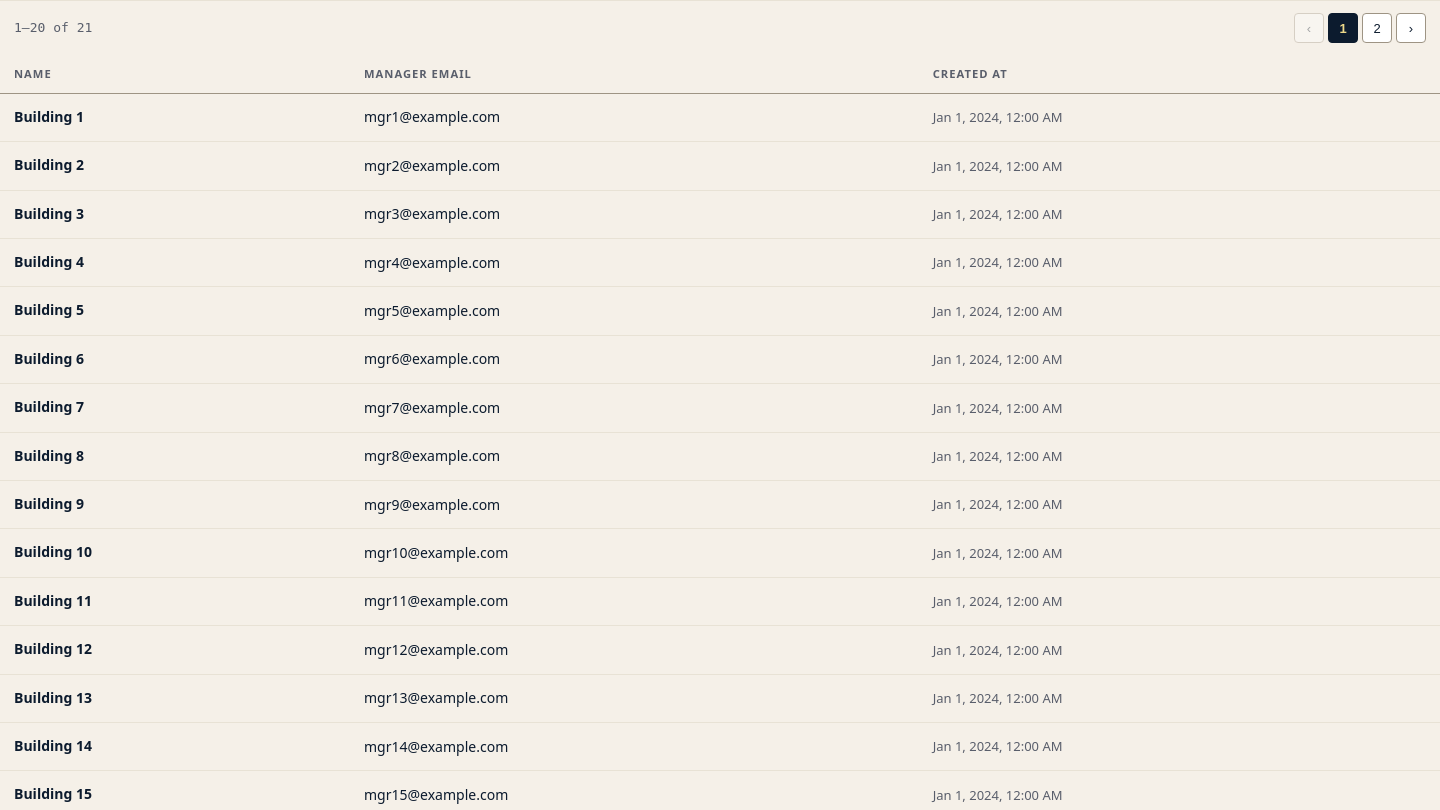
BuildingTable › renders the 21st building when navigating to page 2
What coordinates should you click on to do the following:
click the button named "Go to page 2"
I would click on:
 (1377, 28)
Its box is x1=1362 y1=13 x2=1392 y2=43.
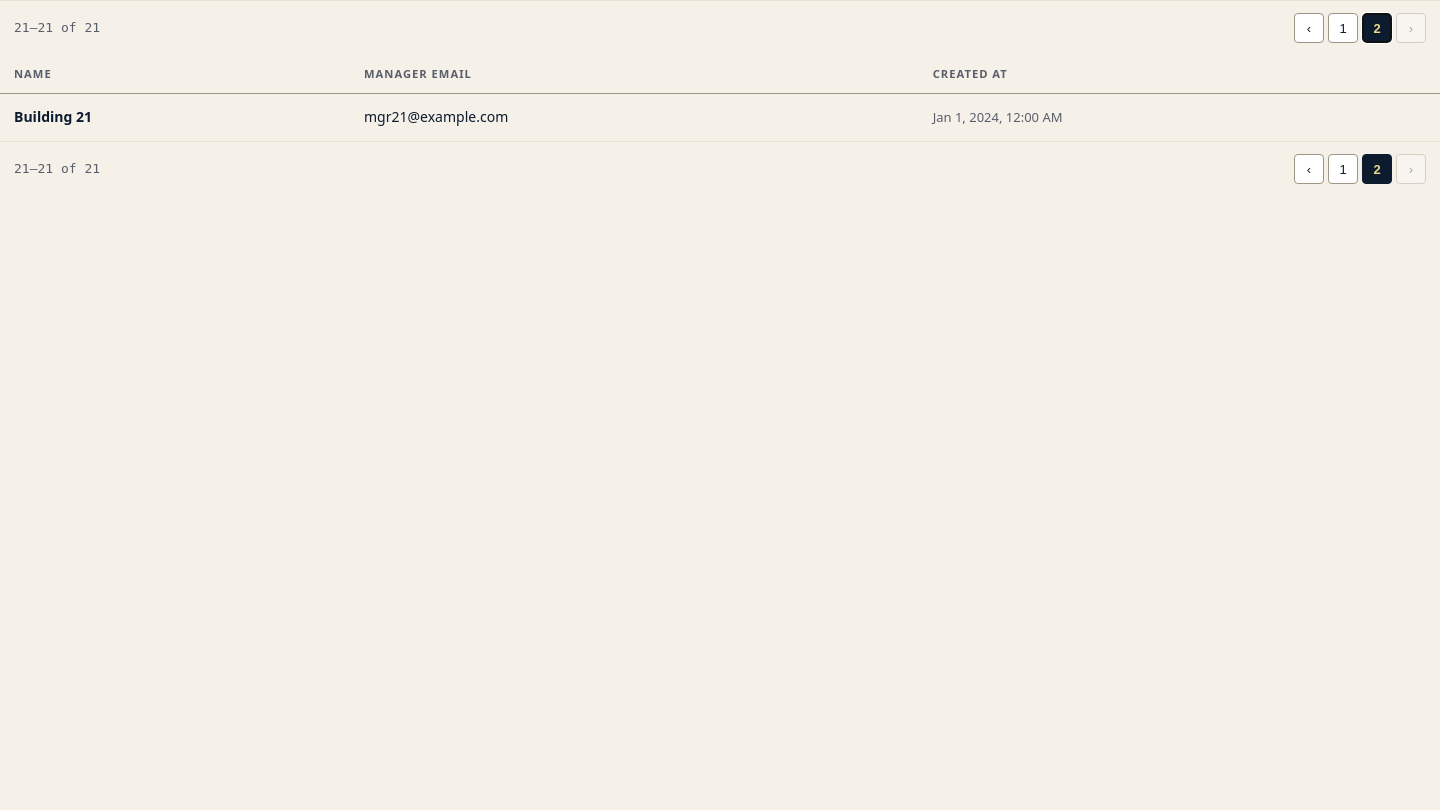
expect the button "Building 21" is shown: met, box x1=14 y1=106 x2=92 y2=129
expect the button "Building 1" is gone: met
